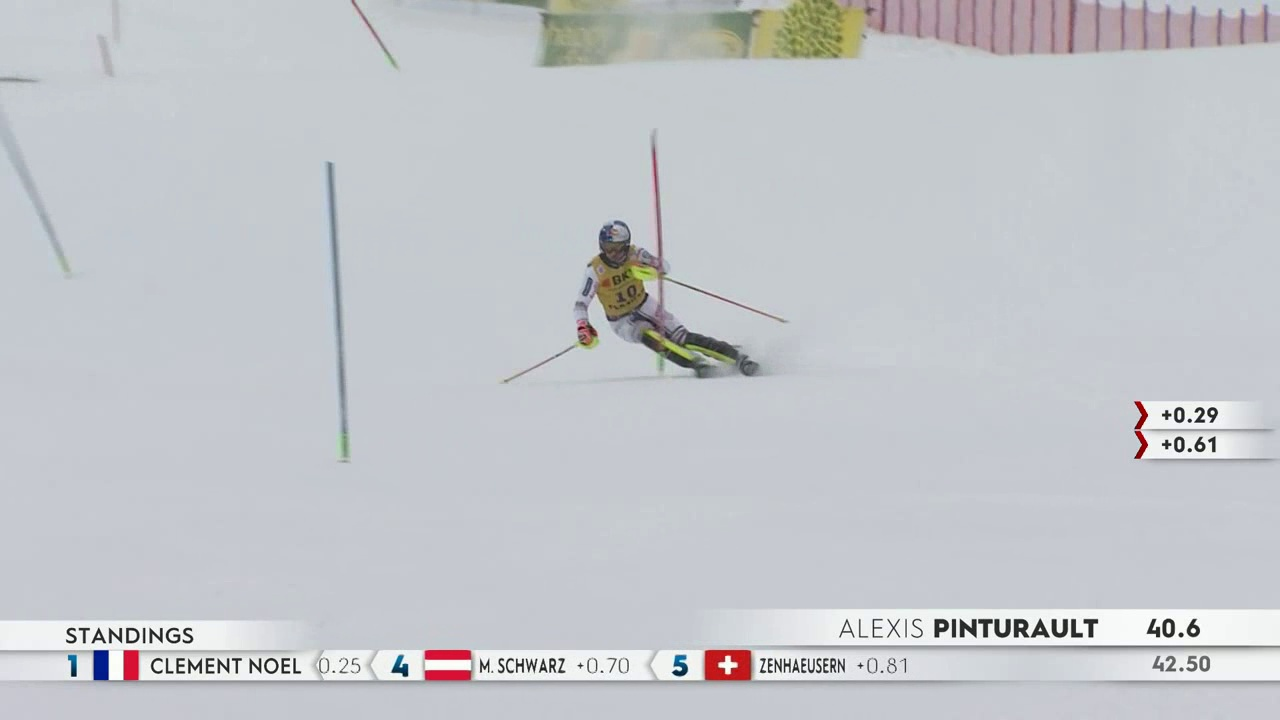rauch: (606, 276, 643, 300)
